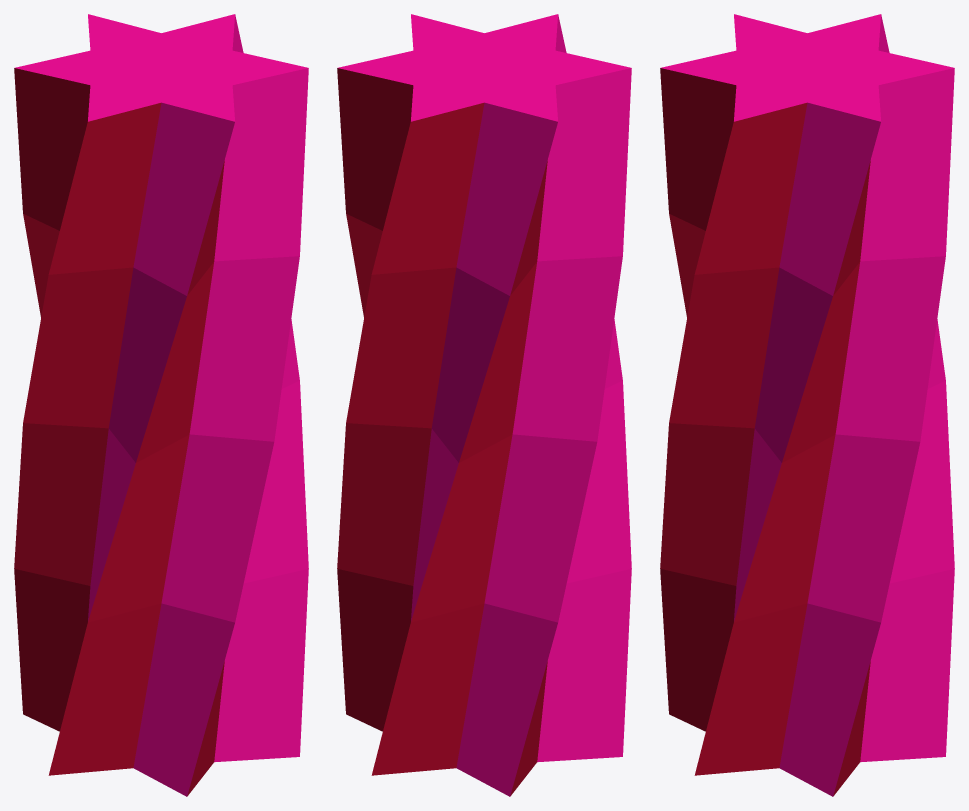
Rendered from Twist.fbx.
The picture shows the model from 3 angles, left to right: view 1: azimuth 30°, elevation 25°; view 2: azimuth 150°, elevation 25°; view 3: azimuth 270°, elevation 25°; orthographic projection.
Visible parts, largest first — view 1: Circle; view 2: Circle; view 3: Circle.
Boxes of the visible parts, x1,y1,x2,y2 form: Circle: (14,14,308,796); Circle: (337,14,631,796); Circle: (660,14,954,796).
Bounding box in the file's own units: 98.48 × 250 × 100.
